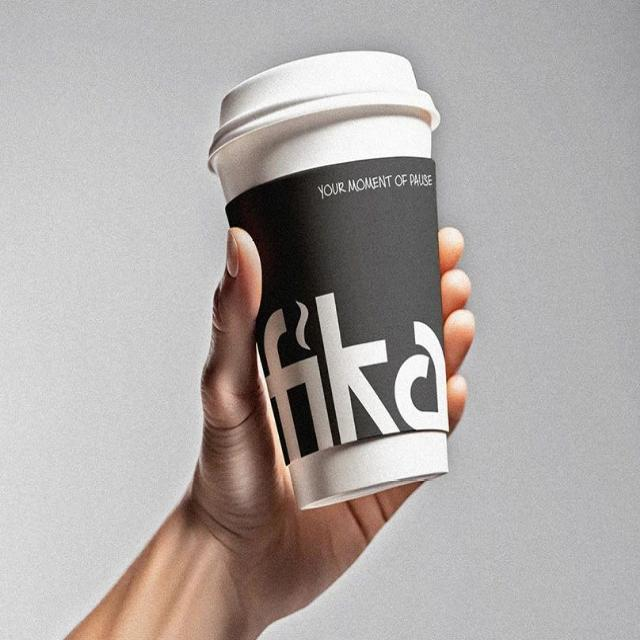paper cup: (209, 50, 450, 509)
